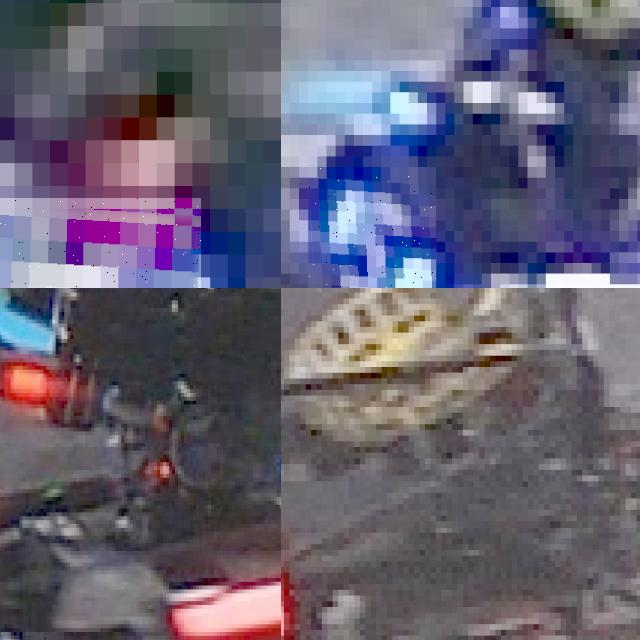B4: (0, 197, 201, 288)
B5: (308, 167, 436, 288)
